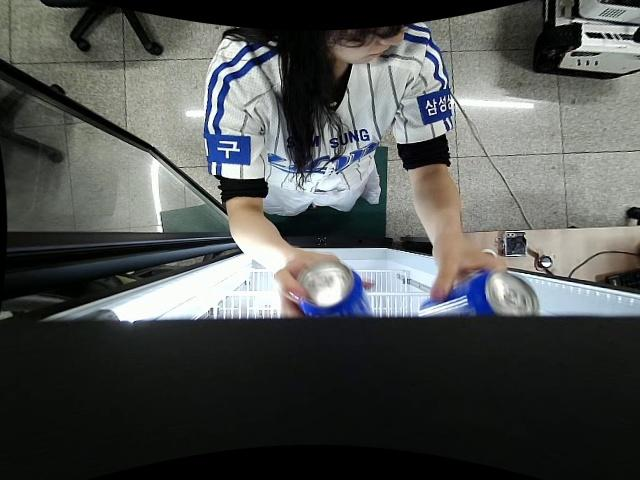00_hand: (271, 251, 373, 325), (427, 243, 509, 305)
13_pocariSweat: (421, 273, 538, 319), (293, 262, 377, 321)
